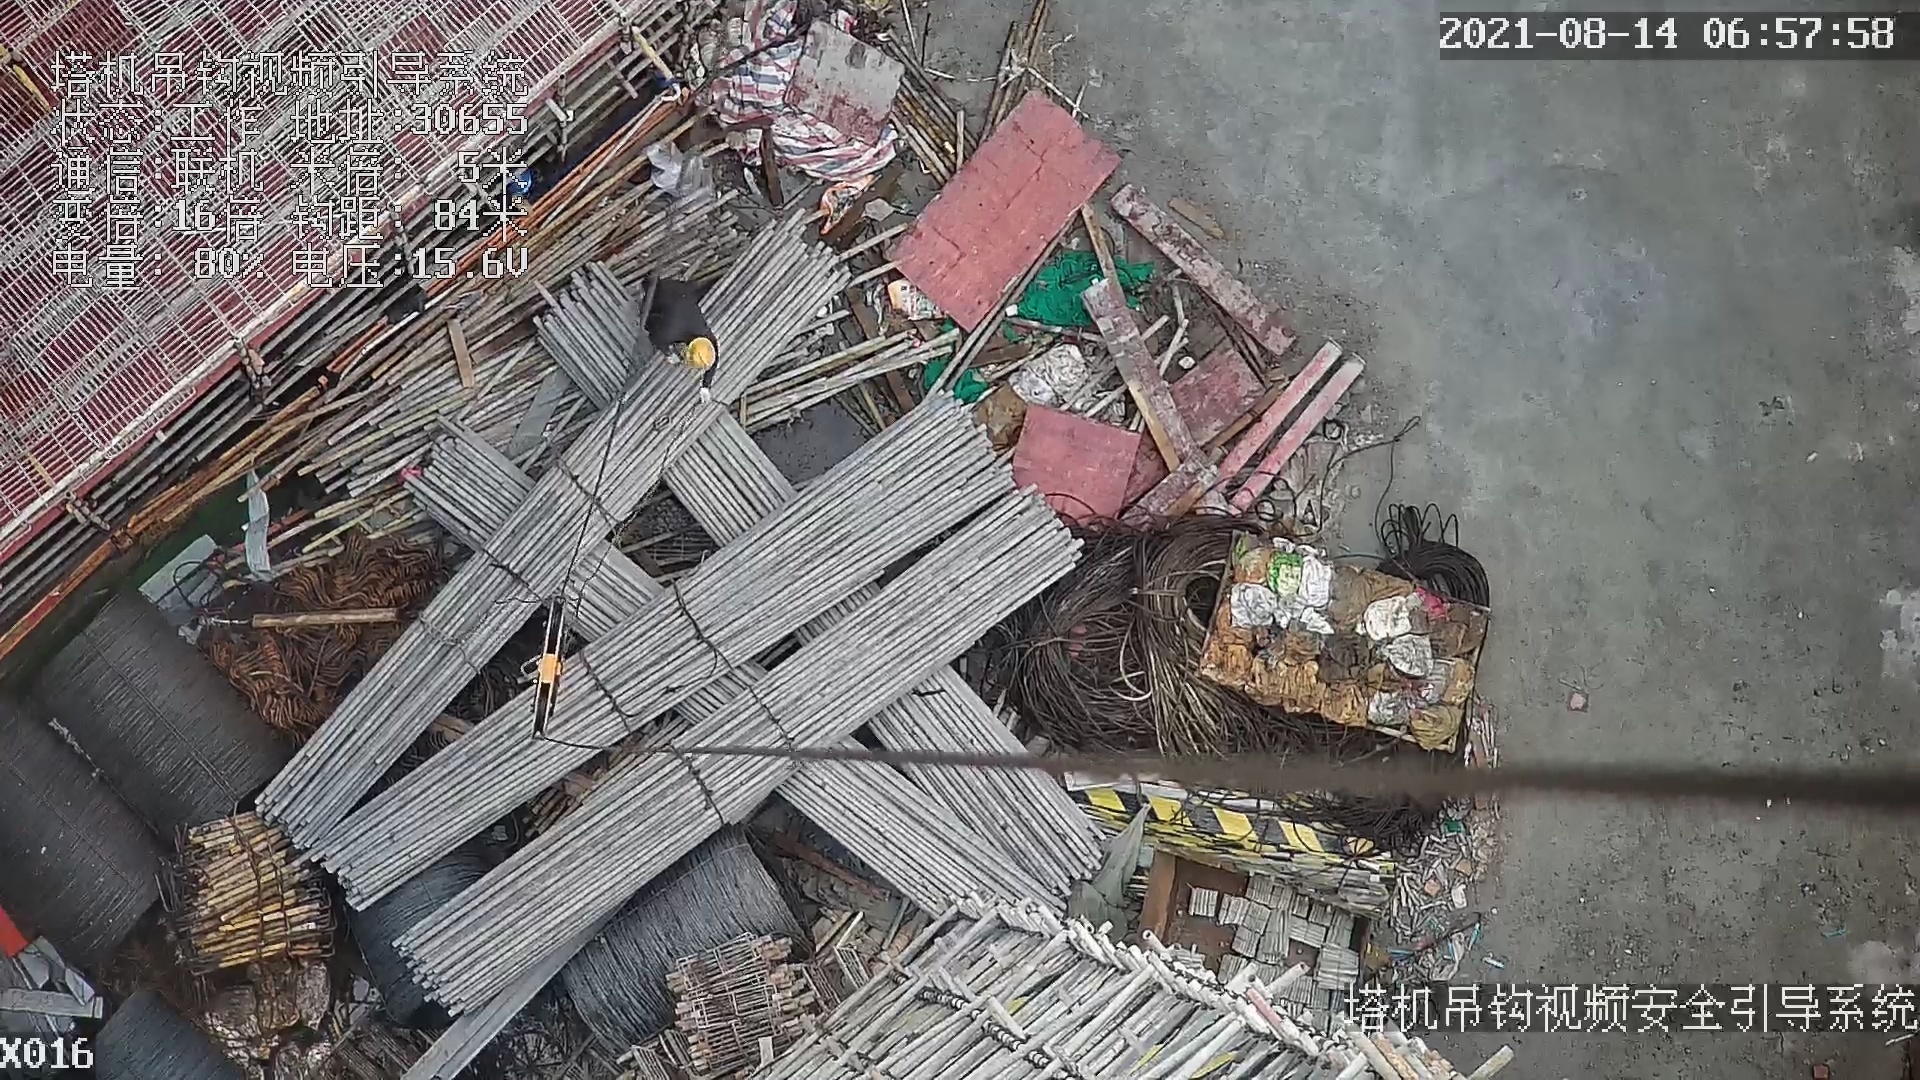helmet: (684, 337, 716, 371)
hook: (514, 585, 573, 739)
person: (640, 271, 724, 401)
rebar: (254, 220, 851, 846), (312, 393, 1017, 915), (394, 488, 1085, 1015), (777, 739, 1079, 922), (867, 662, 1106, 889)
scaffold: (161, 812, 336, 979)
